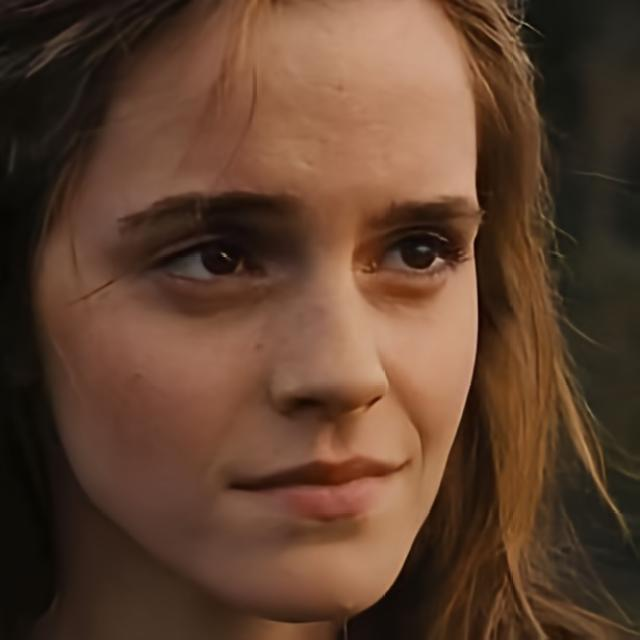content: (30, 0, 487, 626)
